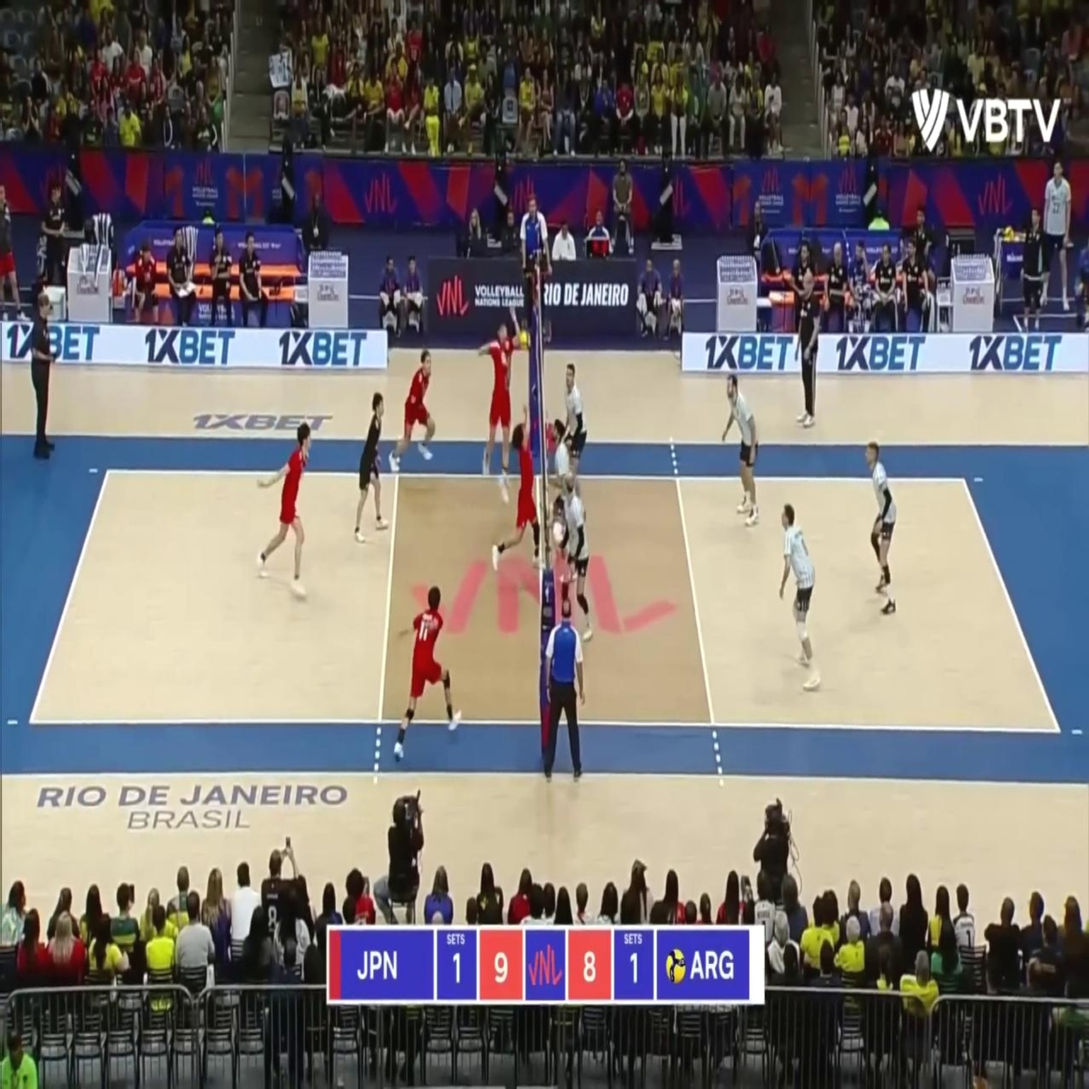ball: (520, 332, 531, 351)
